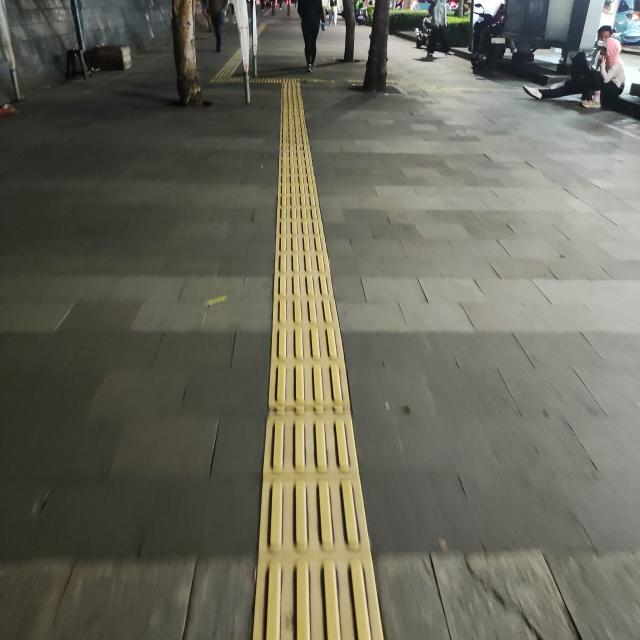lurus: (260, 96, 357, 640)
